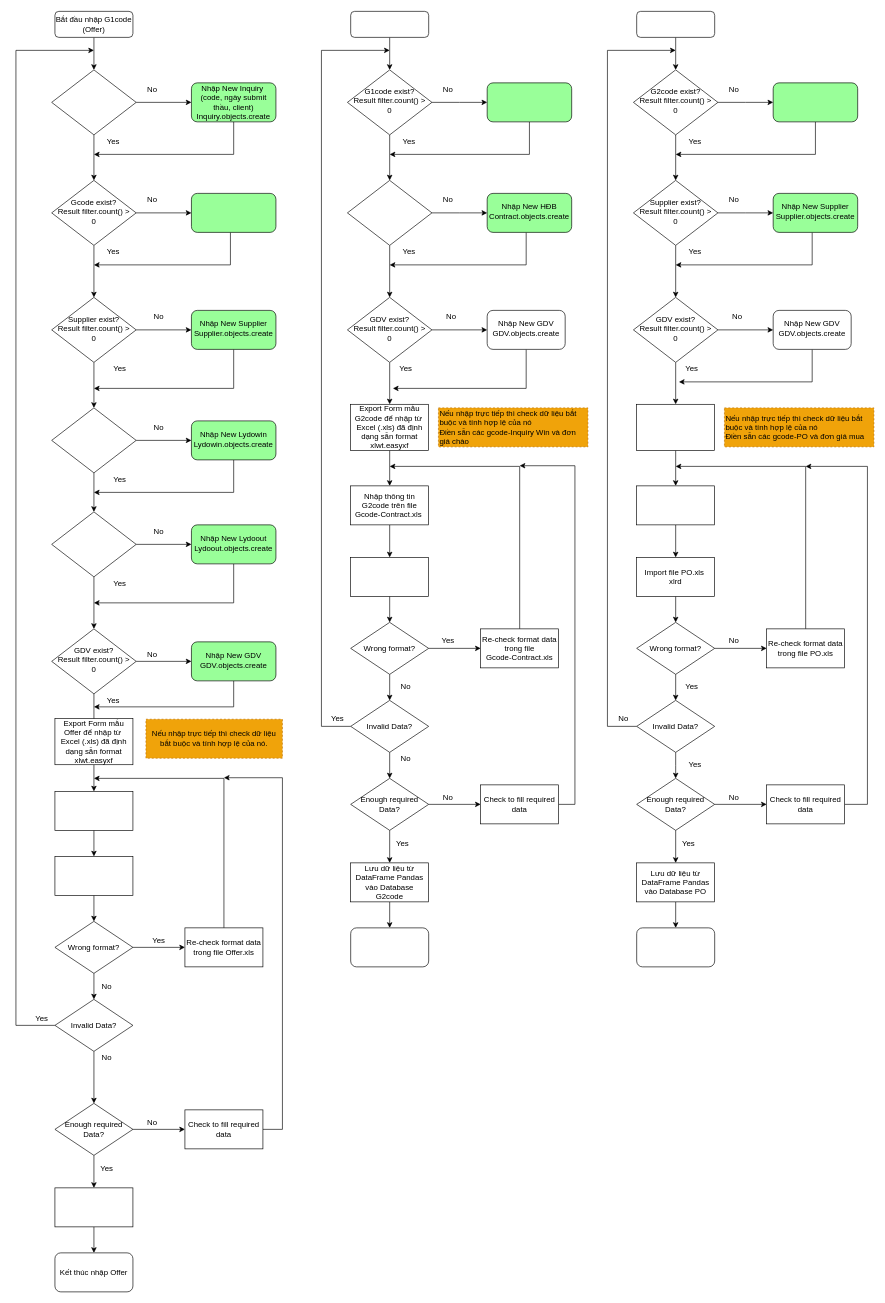
The diagram is 885 pixels wide and 1303 high, and some of its shapes have lost their labels. Each missing label, with the centre of its shape:
"Bắt đầu nhập G2code" belongs at [389,24].
"Bắt đầu nhập PO chi tiết" belongs at [675,24].
"Export Form mẫu PO để nhập từ Excel (.xls) đã định dạng sẵn format xlwt.easyxf" belongs at [675,427].
"HĐB exist? Result filter.count() > 0" belongs at [389,212].
"Import file Gcode-Contract.xls xlrd" belongs at [389,576].
"Import file Offer.xls xlrd" belongs at [93,875].
"Inquiry exist? Result filter.count() > 0" belongs at [93,102].
"Kết thúc nhập G2code" belongs at [389,947].
"Kết thúc nhập PO" belongs at [675,947].
"Ly do out exist? Result filter.count() > 0" belongs at [93,544].
"Ly do win exist? Result filter.count() > 0" belongs at [93,440].
"Lưu dữ liệu từ DataFrame Pandas vào Database G1code" belongs at [93,1207].
"Nhập New G1code G1code.objects.create" belongs at [529,102].
"Nhập New G2code G2code.objects.create" belongs at [815,102].
"Nhập New Gcode Gcode.objects.create" belongs at [233,212].
"Nhập thông tin G1code trên file Offer.xls" belongs at [93,810].
"Nhập thông tin PO trên file PO.xls" belongs at [675,505].
